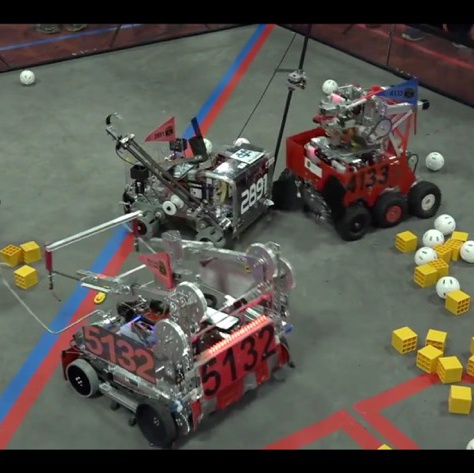robot: (44, 236, 296, 449), (278, 73, 436, 238), (101, 105, 277, 248)
